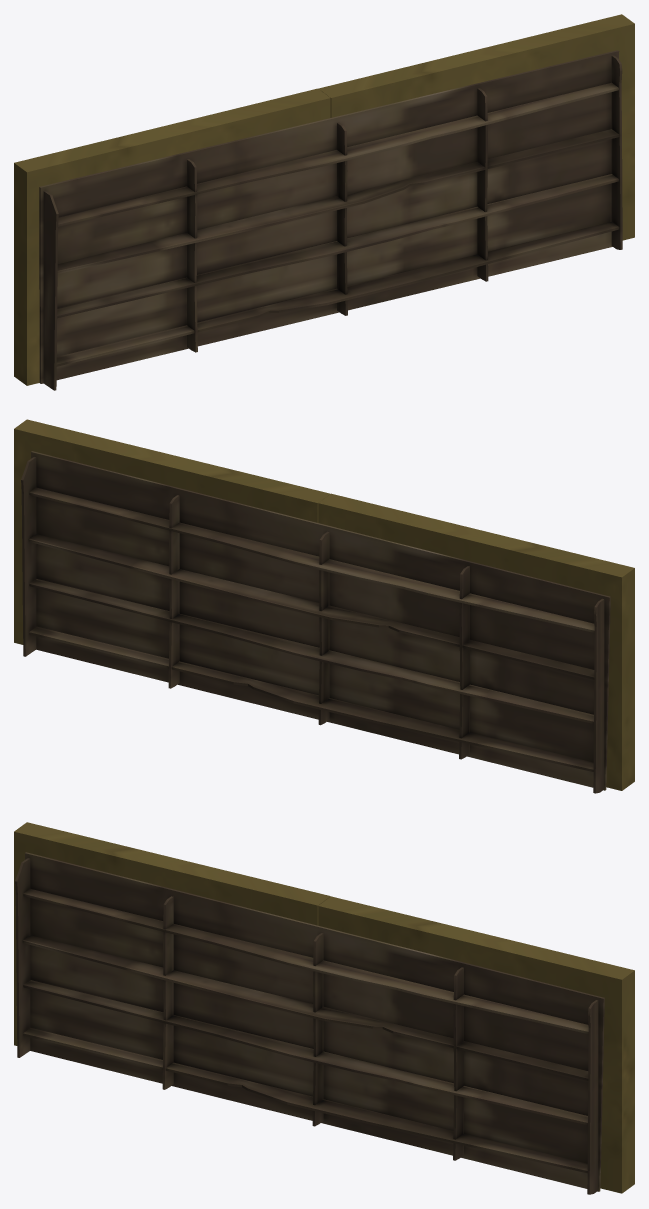
The model's file is Wardrobe4.fbx.
3 renders of one model, top to bottom at view 1: azimuth 30°, elevation 25°; view 2: azimuth 150°, elevation 25°; view 3: azimuth 330°, elevation 25°, orthographic.
Visible parts, largest first — view 1: Wardrobe4; view 2: Wardrobe4; view 3: Wardrobe4.
Boxes of the visible parts, x1=… form: Wardrobe4: x1=14, y1=14, x2=634, y2=390; Wardrobe4: x1=14, y1=419, x2=634, y2=793; Wardrobe4: x1=14, y1=822, x2=634, y2=1194.
Bounding box in the file's own units: 1231 × 419 × 145.
2 materials, 2 textured.
